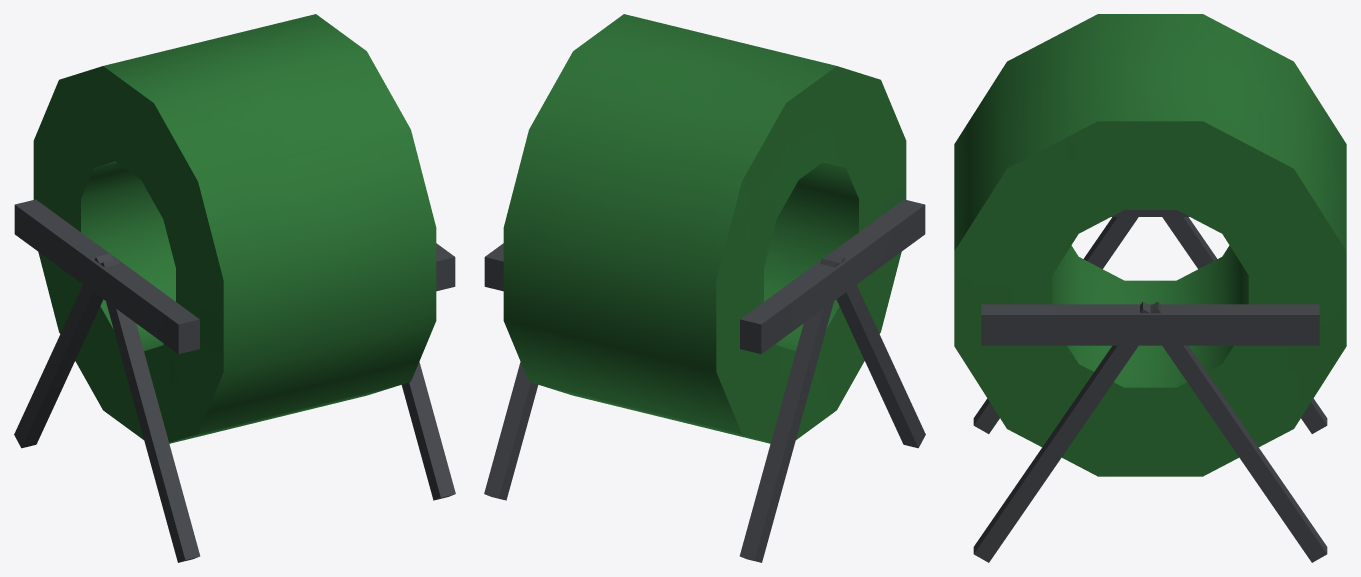
The model's file is mangueira_enrolada.glb.
3 views of the same model, side by side, from view 1: azimuth 30°, elevation 25°; view 2: azimuth 150°, elevation 25°; view 3: azimuth 270°, elevation 25° (orthographic). The views are drawn at different scales.
Visible parts, largest first — view 1: Inteiro; view 2: Inteiro; view 3: Inteiro.
Boxes of the visible parts, box(x1,y1,x2,y2) form: Inteiro: box(14, 14, 455, 562); Inteiro: box(484, 14, 925, 562); Inteiro: box(954, 14, 1346, 562).
Bounding box in the file's own units: 0.39 × 0.5574 × 0.4636.
1 material, 1 textured.
